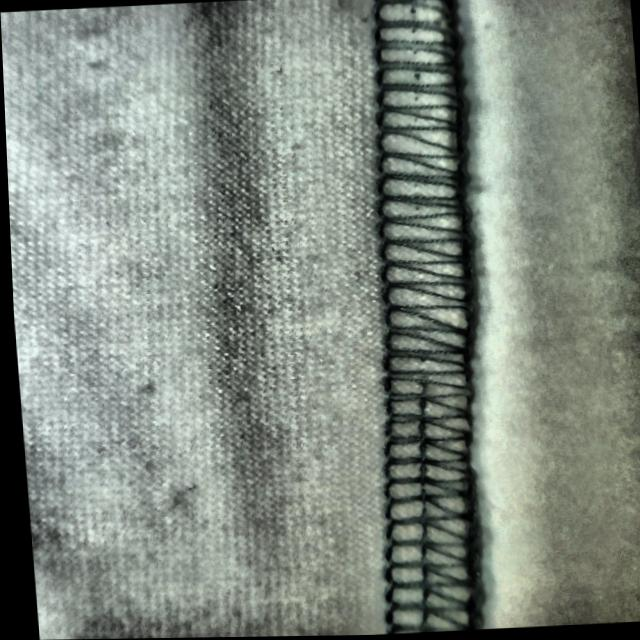Stitch: (352, 217, 496, 595)
